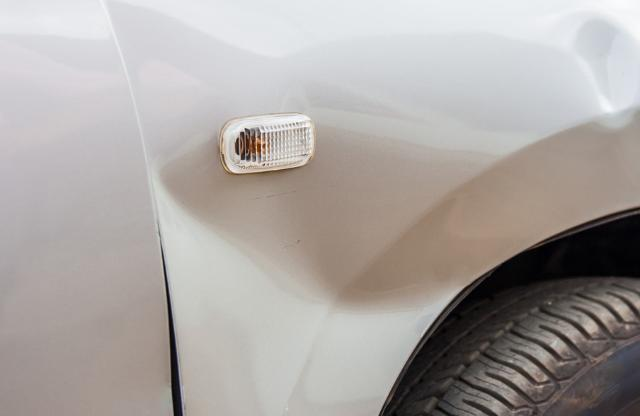Fender: (166, 80, 482, 358)
